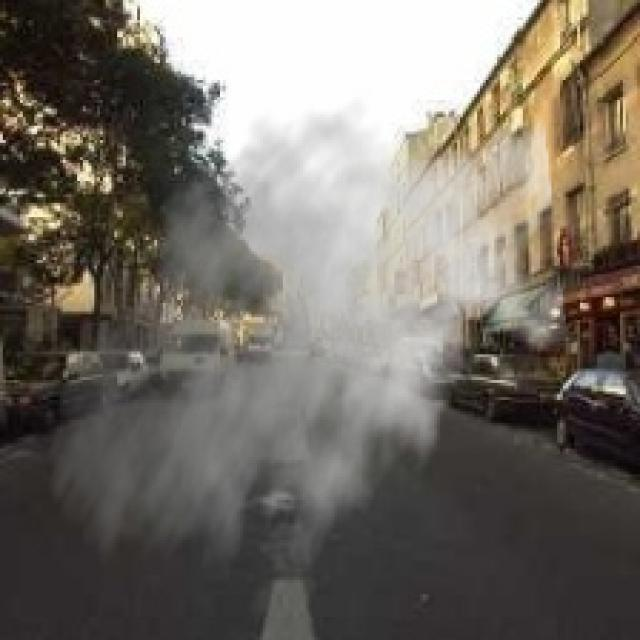Smoke: (42, 79, 568, 612)
